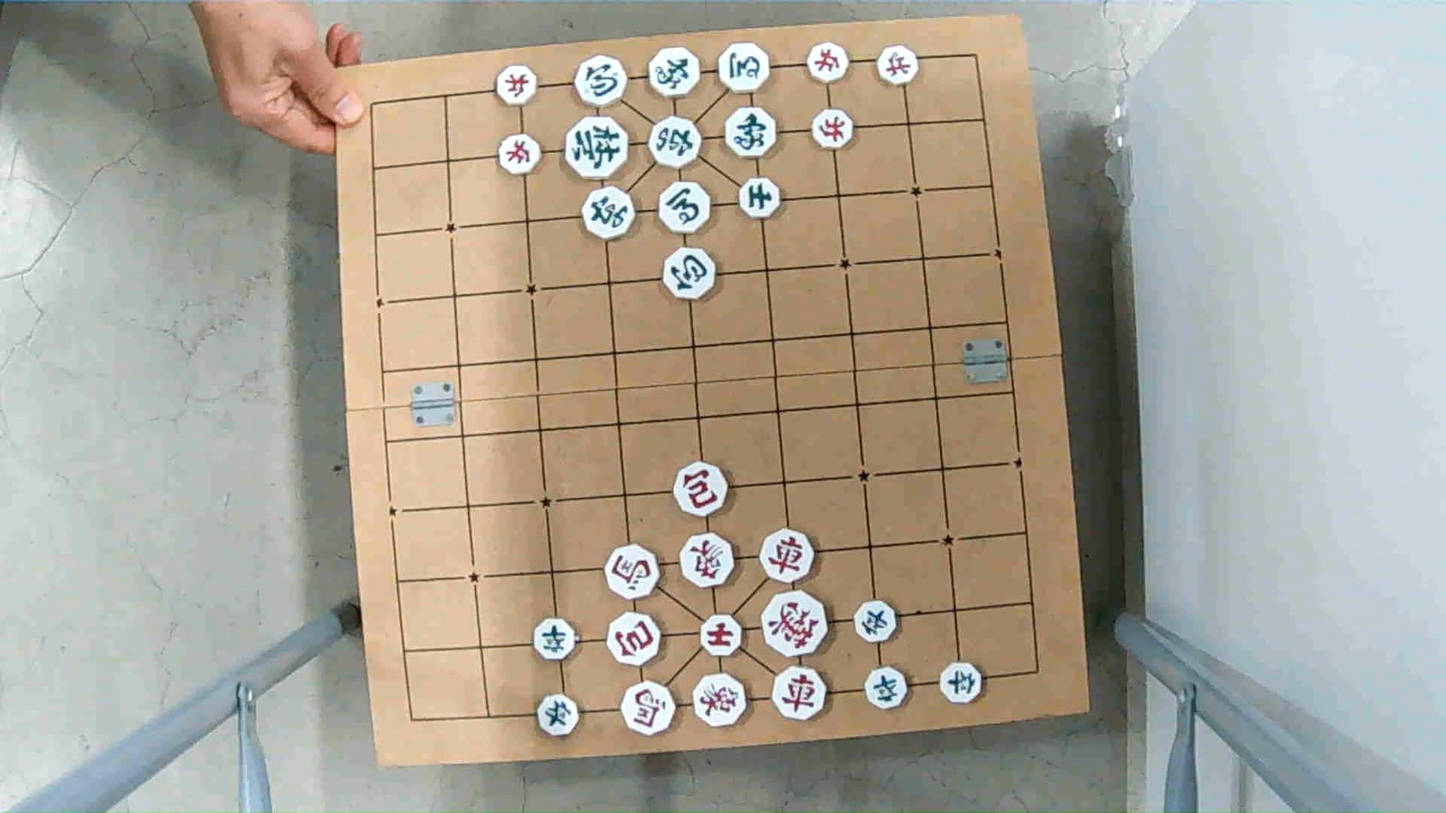cha_green: (648, 119, 704, 168), (581, 190, 636, 239)
cha_red: (773, 668, 831, 720), (759, 531, 817, 580)
jol_green: (534, 693, 582, 737), (864, 668, 911, 708), (938, 663, 984, 702), (852, 604, 898, 643), (535, 620, 579, 659)
jol_red: (877, 44, 918, 87), (809, 109, 854, 146), (808, 42, 850, 81), (499, 136, 542, 173), (496, 66, 538, 102)
ma_green: (660, 181, 712, 233), (716, 44, 772, 90)
ma_red: (621, 684, 677, 736), (607, 549, 664, 599)
po_green: (661, 249, 716, 300), (575, 59, 630, 107)
po_red: (673, 467, 733, 516), (609, 614, 664, 665)
sa_green: (739, 179, 783, 220)
sa_red: (700, 615, 744, 656)
sang_green: (648, 48, 701, 96), (723, 111, 776, 157)
sang_red: (680, 534, 736, 587), (691, 677, 749, 728)
wang_green: (568, 116, 627, 178)
wang_red: (761, 595, 832, 656)
